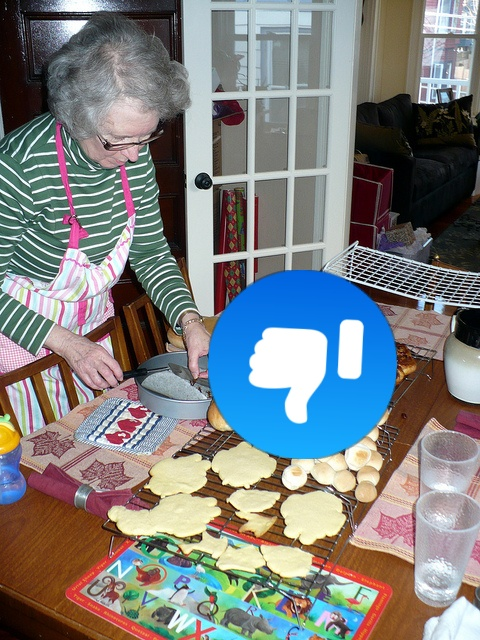like: (208, 270, 397, 459)
